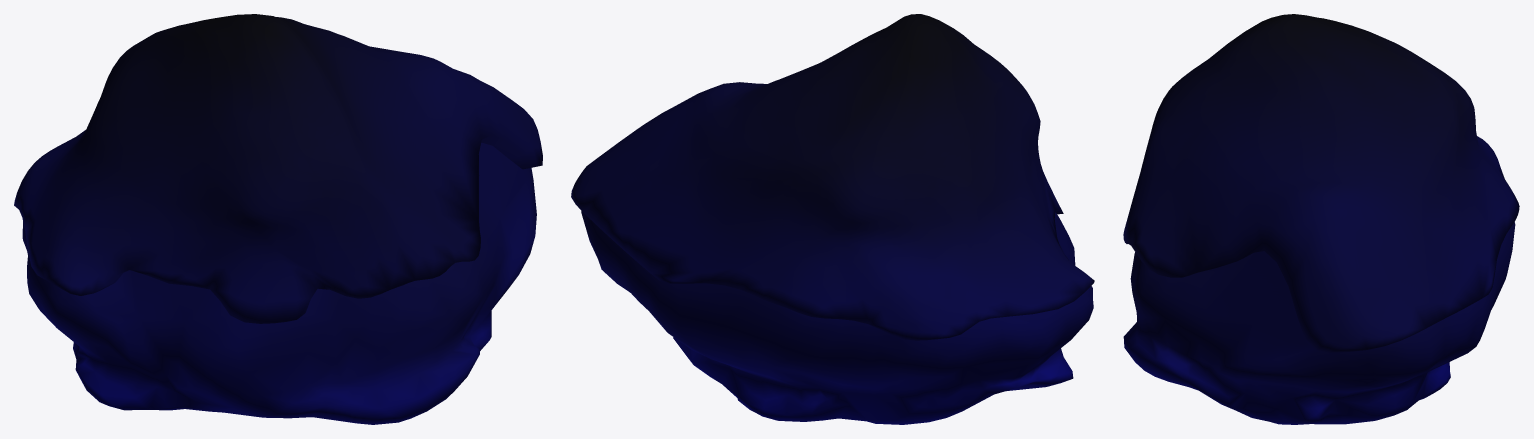
Rendered from bush_02.fbx.
3 views of the same model, side by side, from view 1: azimuth 30°, elevation 25°; view 2: azimuth 150°, elevation 25°; view 3: azimuth 270°, elevation 25° (orthographic). The views are drawn at different scales.
Visible parts, largest first — view 1: bush_02; view 2: bush_02; view 3: bush_02.
Part boxes in pixels (x1,y1,x2,y2): bush_02: (14,14,542,424); bush_02: (571,14,1094,424); bush_02: (1123,14,1519,424).
Bounding box in the file's own units: 1.69 × 1.21 × 1.28.
